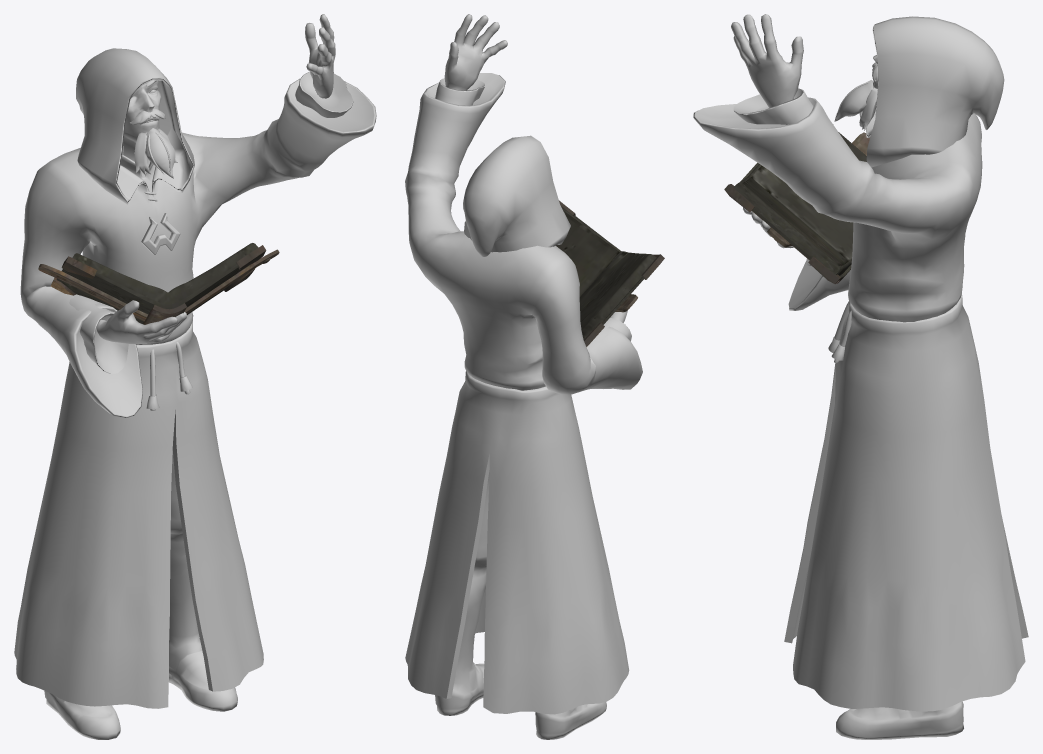
The picture shows the model from 3 angles, left to right: view 1: azimuth 30°, elevation 25°; view 2: azimuth 150°, elevation 25°; view 3: azimuth 270°, elevation 25°; orthographic projection. The views are drawn at different scales.
Visible parts, largest first — view 1: SM_DR_Statue_ZamorakAcolyte_A_02_LOD0; view 2: SM_DR_Statue_ZamorakAcolyte_A_02_LOD0; view 3: SM_DR_Statue_ZamorakAcolyte_A_02_LOD0.
Part boxes in pixels (x1=…): SM_DR_Statue_ZamorakAcolyte_A_02_LOD0: x1=14, y1=14, x2=376, y2=739; SM_DR_Statue_ZamorakAcolyte_A_02_LOD0: x1=405, y1=14, x2=664, y2=739; SM_DR_Statue_ZamorakAcolyte_A_02_LOD0: x1=693, y1=14, x2=1028, y2=739.
Bounding box in the file's own units: 1.73 × 4.13 × 1.68.
